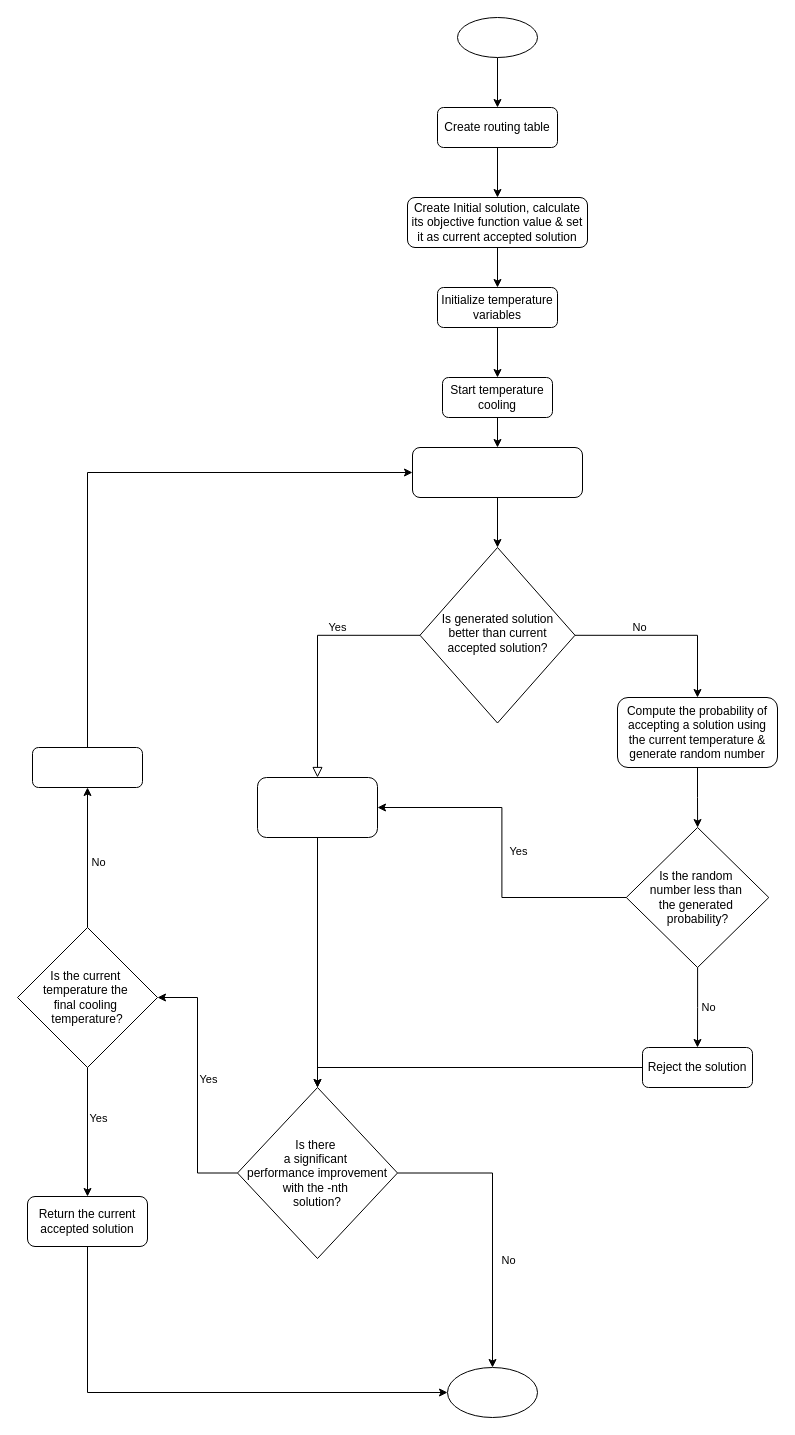
Some shapes in this 795 by 1435 pixel diagram are drawn without their labels. Here are the shapes that lost their labels. From the top down, the centre of each, then its label:
pixel 497 37: Start
pixel 497 472: Generate a random solution & calculate its objective function value
pixel 87 767: Reduce the temperature
pixel 317 807: Set generated route as current accepted solution
pixel 492 1392: Stop
